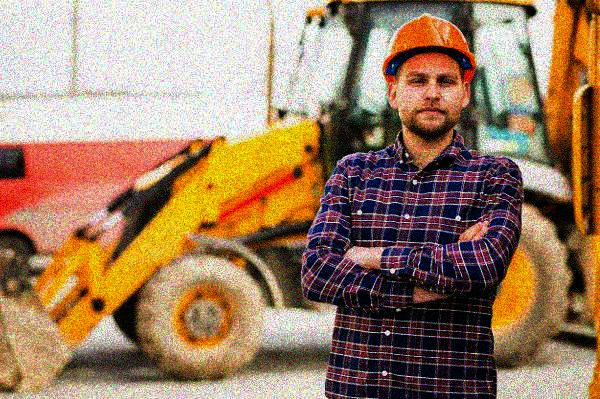helmet: (381, 12, 477, 136)
